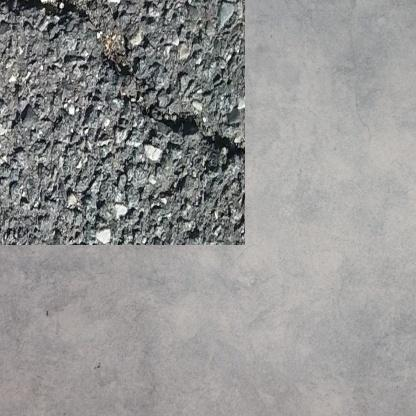Cracks: (129, 78, 226, 161), (0, 0, 91, 33)
